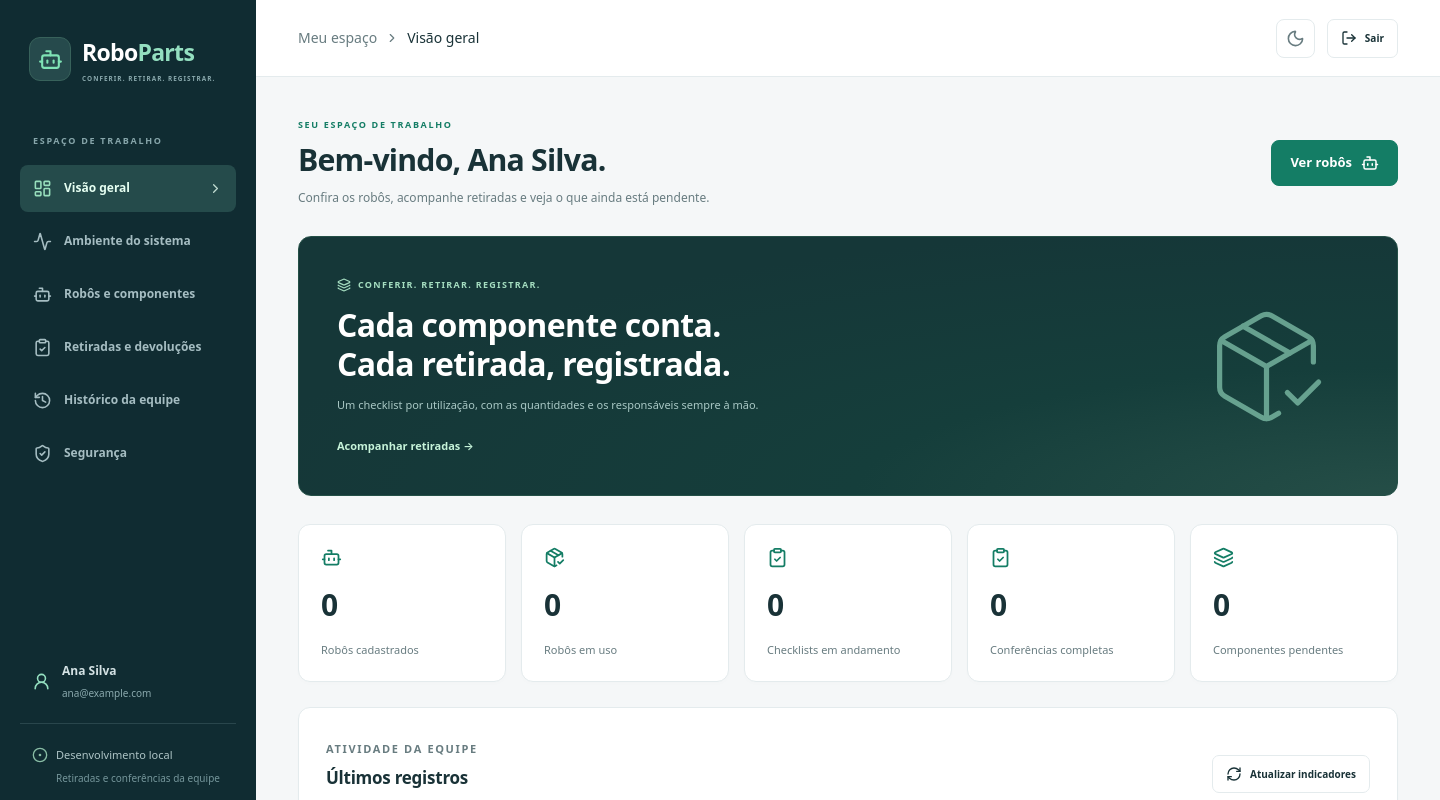
Test: Saída e atividade pessoal › preserva a identidade e permite tentar novamente quando a saída não for confirmada
Check: the heading "Bem-vindo, Ana Silva." is shown, box [298,138,606,180]
Click the button "Sair".
click(1362, 38)  # box [1327,18,1398,58]
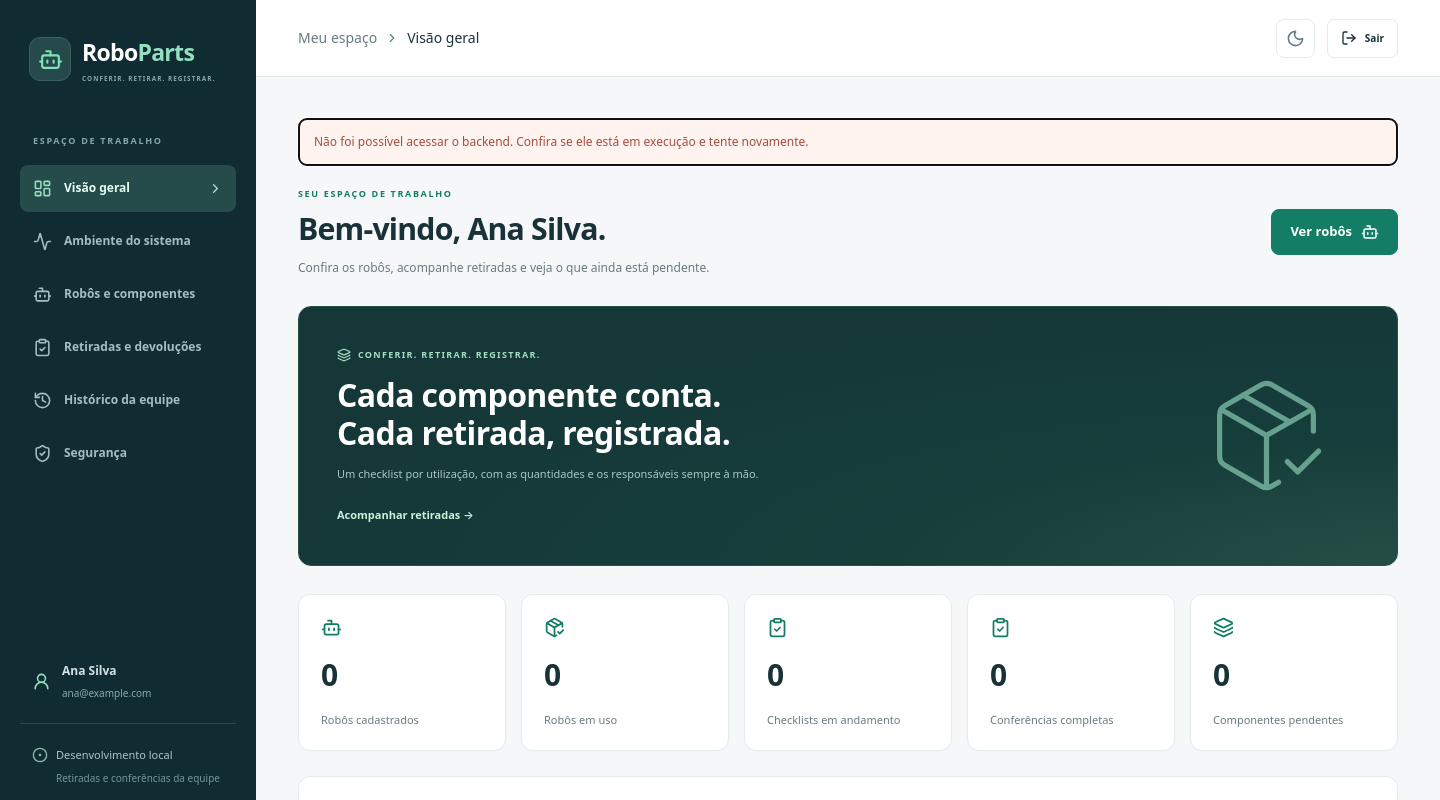
Check: the heading "Bem-vindo, Ana Silva." is shown, box [298,208,606,249]
Check: the message shows "Não foi possível acessar o backend", box [314,133,809,150]
